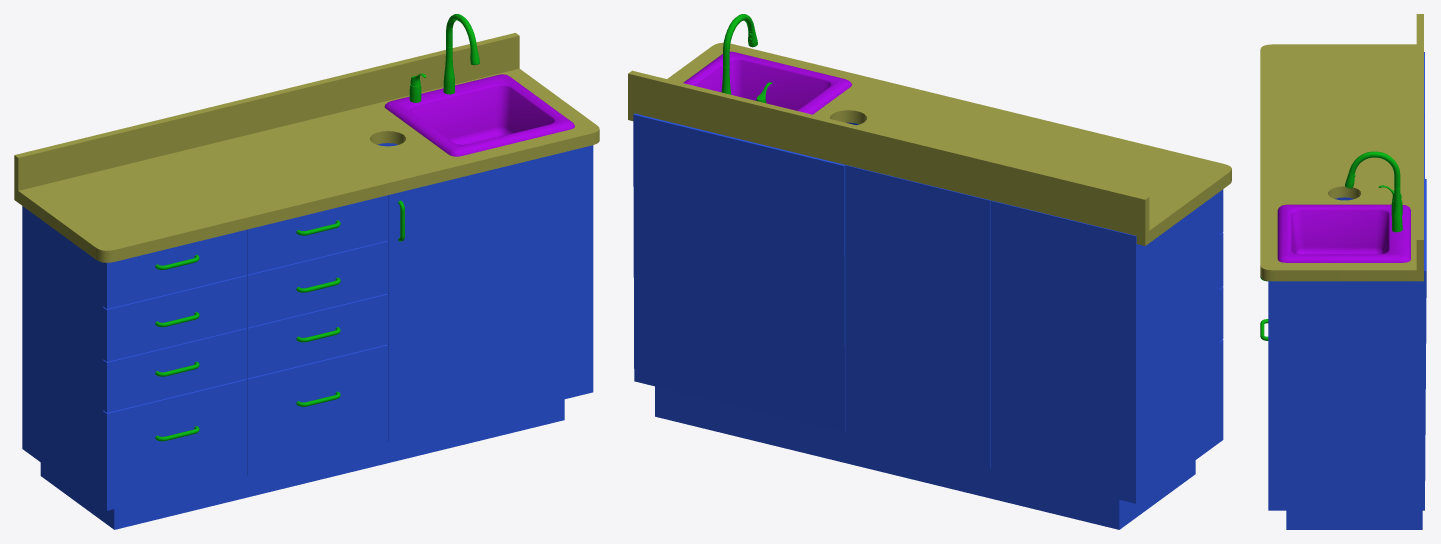
The model's file is Cabinet 3.FBX.
3 renders of one model, left to right at view 1: azimuth 30°, elevation 25°; view 2: azimuth 150°, elevation 25°; view 3: azimuth 270°, elevation 25°, orthographic. The views are drawn at different scales.
Parts seen in each view (by area): view 1: Box167, Box163, Box191, Object020, 654; view 2: Box167, Box163, Box191, 654; view 3: Box167, Box163, Box191, 654.
Part boxes in pixels (x1,y1,x2,y2): Box167: (22,143,593,529); Box163: (14,33,599,262); Box191: (384,74,574,156); Object020: (155,200,404,441); 654: (409,14,479,102); Box167: (633,113,1223,529); Box163: (628,42,1231,245); Box191: (683,51,851,114); 654: (721,14,772,103); Box167: (1268,52,1426,529); Box163: (1260,14,1423,281); Box191: (1277,204,1410,262); 654: (1345,151,1402,232).
Size of the model in its own units: 10.61 by 7.74 by 3.3.
